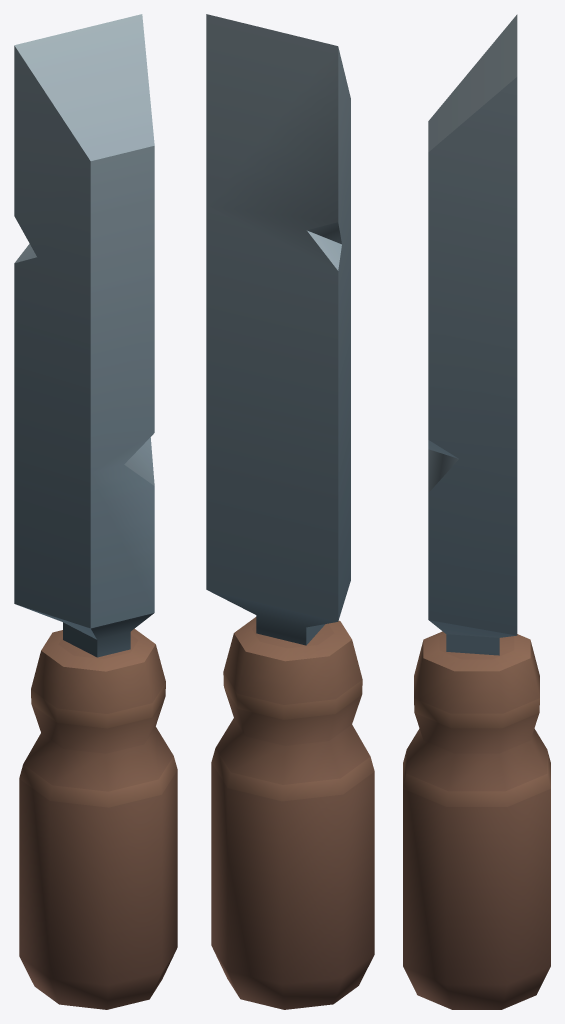
The model's file is chisel.obj.
The picture shows the model from 3 angles, left to right: view 1: azimuth 30°, elevation 25°; view 2: azimuth 150°, elevation 25°; view 3: azimuth 270°, elevation 25°; orthographic projection. The views are drawn at different scales.
Visible parts, largest first — view 1: chisel; view 2: chisel; view 3: chisel.
Part boxes in pixels (x1,y1,x2,y2): chisel: (14, 14, 177, 1009); chisel: (206, 14, 374, 1009); chisel: (403, 14, 550, 1009).
Bounding box in the file's own units: 0.1514 × 1.08 × 0.1513.
1 material, 1 textured.
